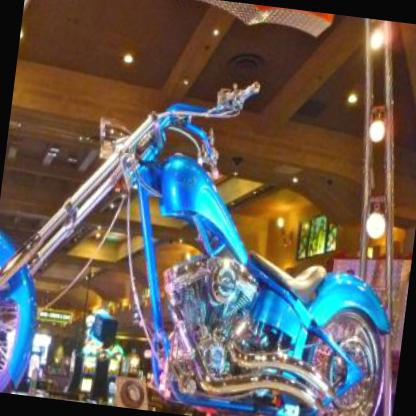motorcycle: (0, 53, 415, 415)
